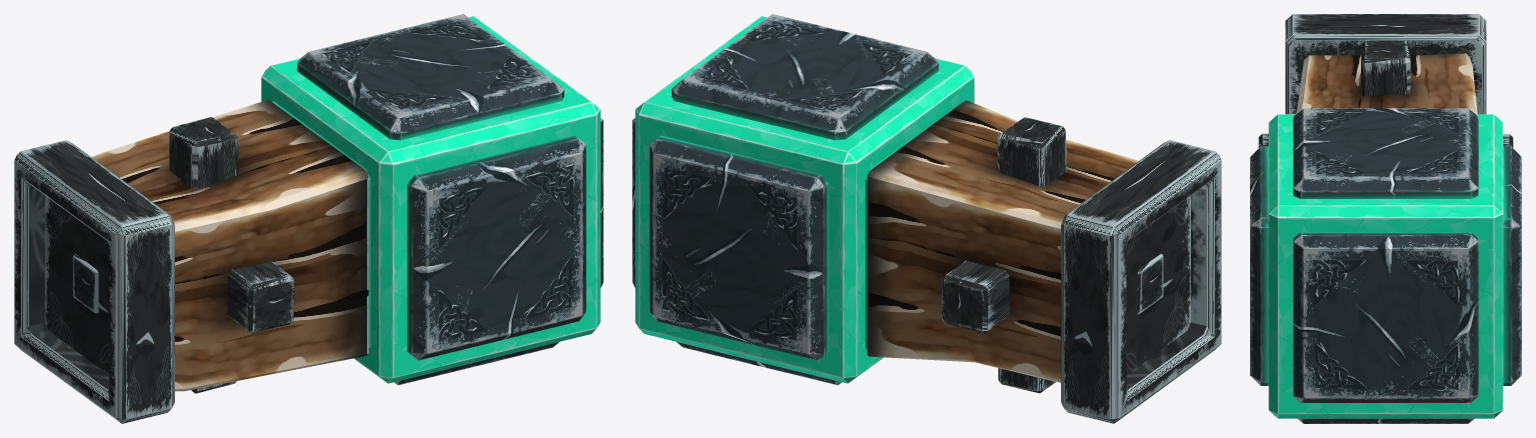
The model's file is step_002.glb.
The picture shows the model from 3 angles, left to right: view 1: azimuth 30°, elevation 25°; view 2: azimuth 150°, elevation 25°; view 3: azimuth 270°, elevation 25°; orthographic projection. The views are drawn at different scales.
Visible parts, largest first — view 1: SingleWoodenBlock_526c8c4b-7cf5-4c2b-afe8-bbe5975ae2ab, StartingBlock_8d6cbf6c-7591-435d-92c6-fa2017f2e13d; view 2: SingleWoodenBlock_526c8c4b-7cf5-4c2b-afe8-bbe5975ae2ab, StartingBlock_8d6cbf6c-7591-435d-92c6-fa2017f2e13d; view 3: StartingBlock_8d6cbf6c-7591-435d-92c6-fa2017f2e13d, SingleWoodenBlock_526c8c4b-7cf5-4c2b-afe8-bbe5975ae2ab.
Part boxes in pixels (x1,y1,x2,y2): SingleWoodenBlock_526c8c4b-7cf5-4c2b-afe8-bbe5975ae2ab: [14, 99, 368, 423]; StartingBlock_8d6cbf6c-7591-435d-92c6-fa2017f2e13d: [261, 14, 603, 385]; SingleWoodenBlock_526c8c4b-7cf5-4c2b-afe8-bbe5975ae2ab: [867, 100, 1221, 423]; StartingBlock_8d6cbf6c-7591-435d-92c6-fa2017f2e13d: [632, 14, 974, 385]; StartingBlock_8d6cbf6c-7591-435d-92c6-fa2017f2e13d: [1250, 108, 1521, 423]; SingleWoodenBlock_526c8c4b-7cf5-4c2b-afe8-bbe5975ae2ab: [1258, 14, 1513, 147].
Size of the model in its own units: 2.17 by 1.13 by 1.13.
Materials: 2 (2 with a texture image).
